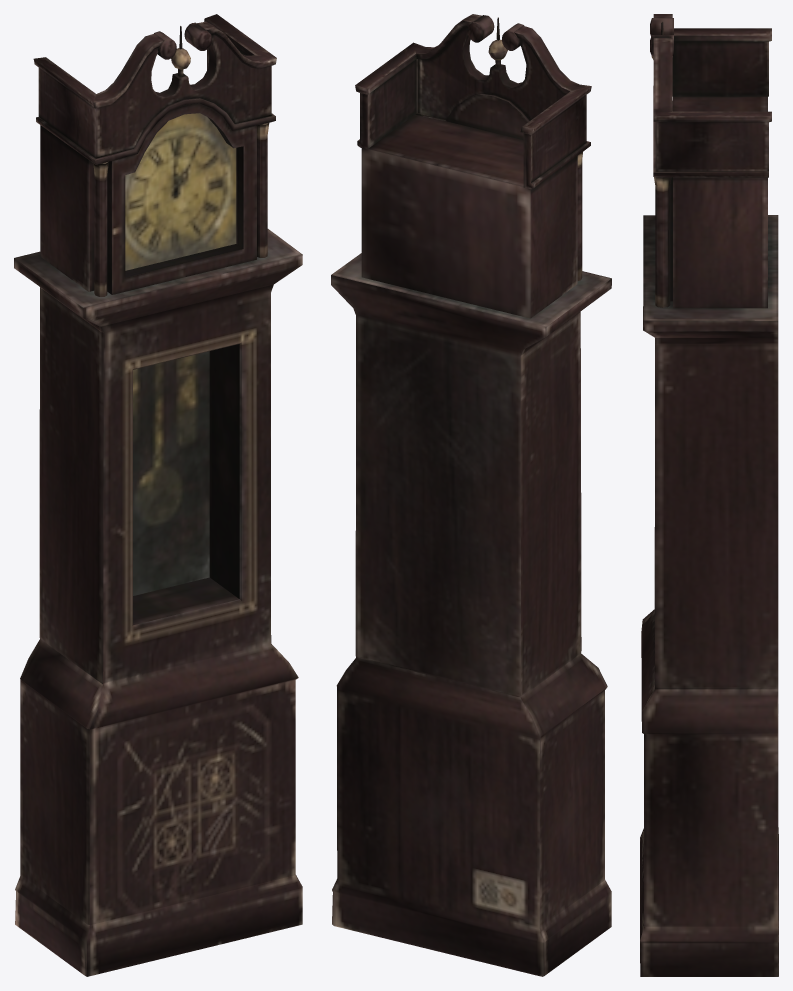
Rendered from ClockFloorAct 1.fbx.
3 views of the same model, side by side, from view 1: azimuth 30°, elevation 25°; view 2: azimuth 150°, elevation 25°; view 3: azimuth 270°, elevation 25° (orthographic). The views are drawn at different scales.
Parts seen in each view (by area): view 1: ClockBase; view 2: ClockBase; view 3: ClockBase.
Boxes of the visible parts, bbox=[...] form: ClockBase: bbox=[14, 14, 302, 976]; ClockBase: bbox=[331, 14, 611, 976]; ClockBase: bbox=[640, 14, 778, 976].
Bounding box in the file's own units: 47.92 × 190 × 26.56.
1 material, 1 textured.
